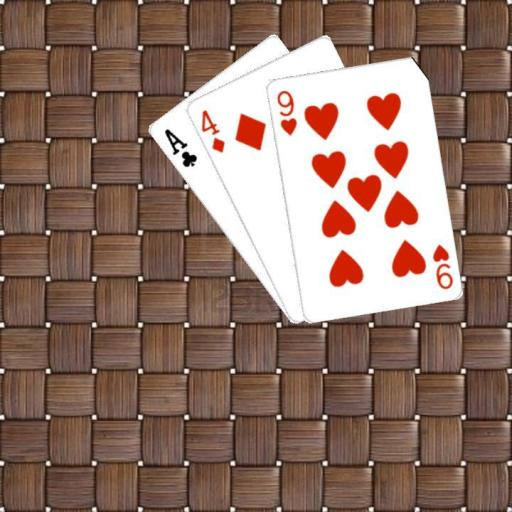4D: (198, 107, 226, 154)
9H: (429, 240, 454, 291), (273, 87, 298, 137)
AC: (161, 125, 198, 169)
